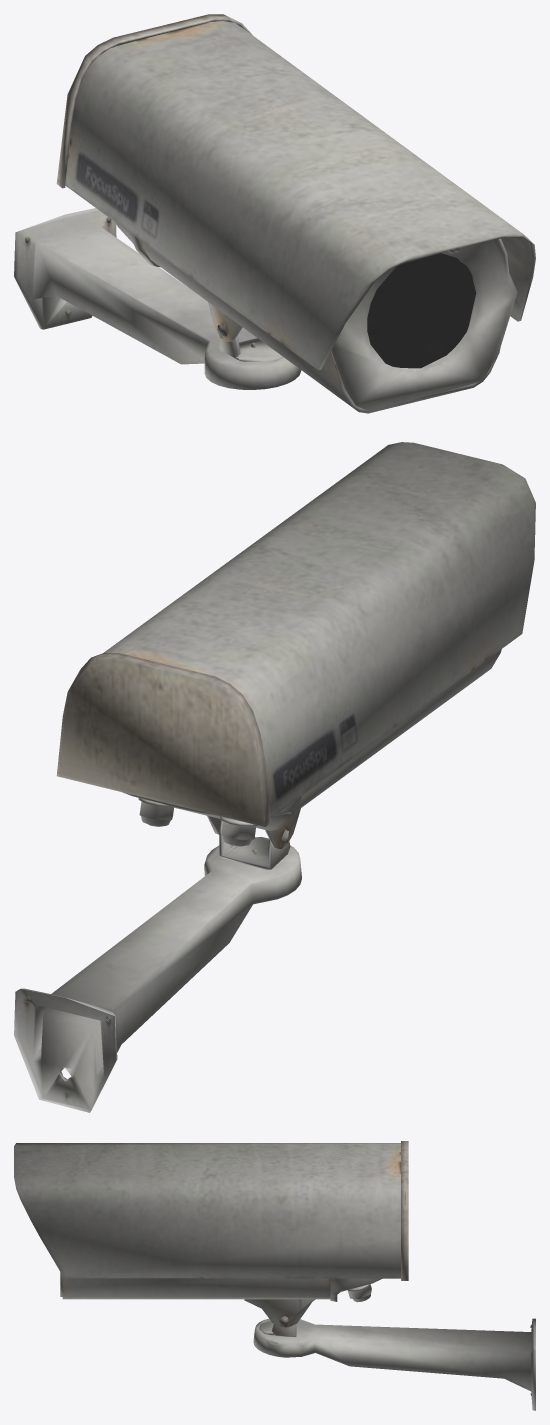
Rendered from security_camera_01.glb.
3 renders of one model, top to bottom at view 1: azimuth 30°, elevation 25°; view 2: azimuth 150°, elevation 25°; view 3: azimuth 270°, elevation 25°, orthographic. The views are drawn at different scales.
Visible parts, largest first — view 1: security_camera_01; view 2: security_camera_01; view 3: security_camera_01.
Part boxes in pixels (x1,y1,x2,y2): security_camera_01: [14, 14, 535, 413]; security_camera_01: [14, 442, 535, 1112]; security_camera_01: [14, 1141, 535, 1410].
Bounding box in the file's own units: 0.1696 × 0.2854 × 0.5536.
Materials: 2 (2 with a texture image).
